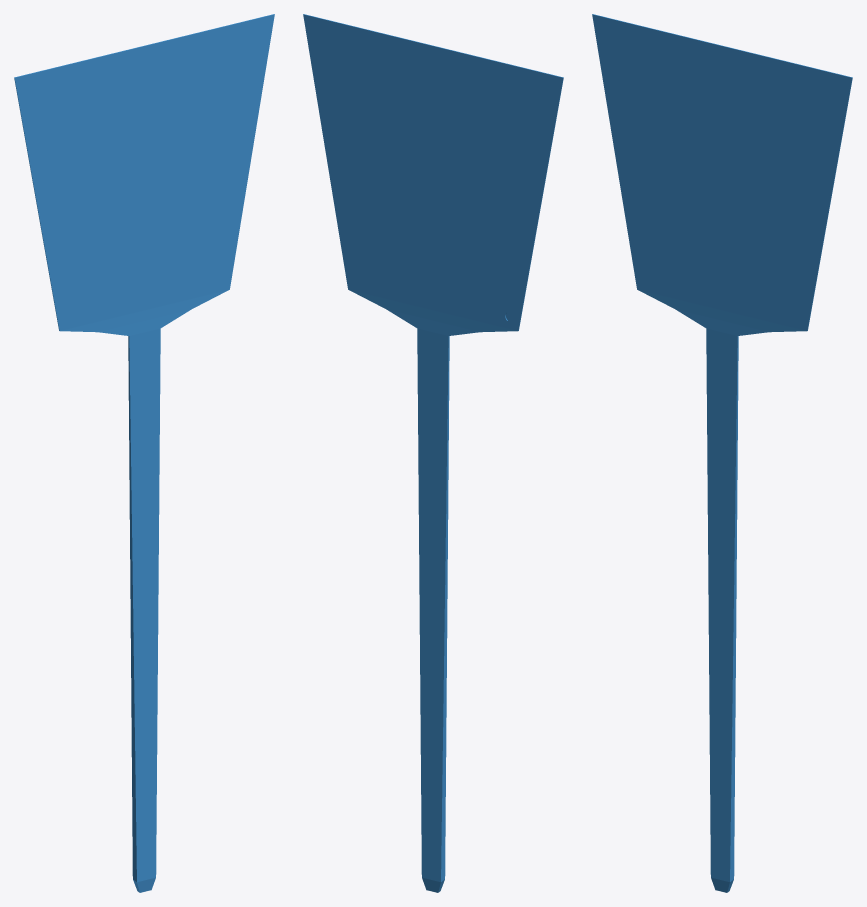
The model's file is FlySwatter.fbx.
3 views of the same model, side by side, from view 1: azimuth 30°, elevation 25°; view 2: azimuth 150°, elevation 25°; view 3: azimuth 330°, elevation 25° (orthographic).
Parts seen in each view (by area): view 1: Cube; view 2: Cube; view 3: Cube.
Part boxes in pixels (x1,y1,x2,y2): Cube: (14, 14, 274, 892); Cube: (303, 14, 563, 892); Cube: (592, 14, 852, 892).
Size of the model in its own units: 0.0541 by 1.96 by 6.07.
